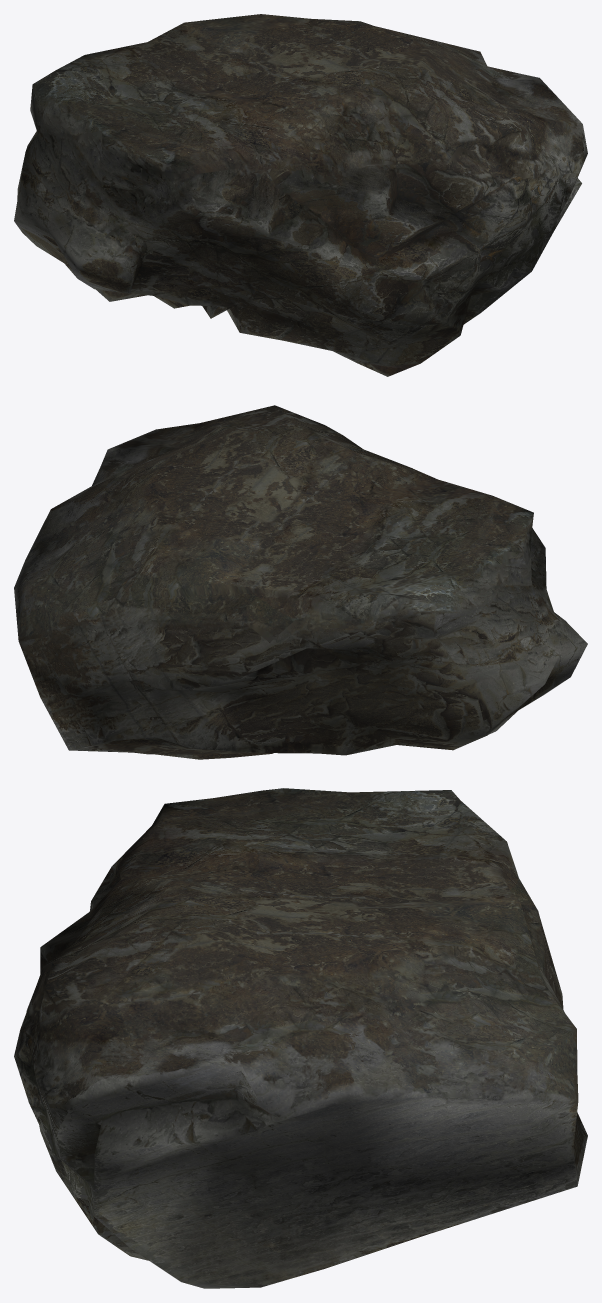
File: Asteroid2.fbx
The picture shows the model from 3 angles, top to bottom: view 1: azimuth 30°, elevation 25°; view 2: azimuth 150°, elevation 25°; view 3: azimuth 270°, elevation 25°; orthographic projection. The views are drawn at different scales.
Parts seen in each view (by area): view 1: Aset_nature_rock_M_ukopeijs_LOD5; view 2: Aset_nature_rock_M_ukopeijs_LOD5; view 3: Aset_nature_rock_M_ukopeijs_LOD5.
Part boxes in pixels (x1,y1,x2,y2): Aset_nature_rock_M_ukopeijs_LOD5: (14,14,587,376); Aset_nature_rock_M_ukopeijs_LOD5: (14,405,587,759); Aset_nature_rock_M_ukopeijs_LOD5: (14,788,587,1288).
Bounding box in the file's own units: 198 × 119 × 168.
